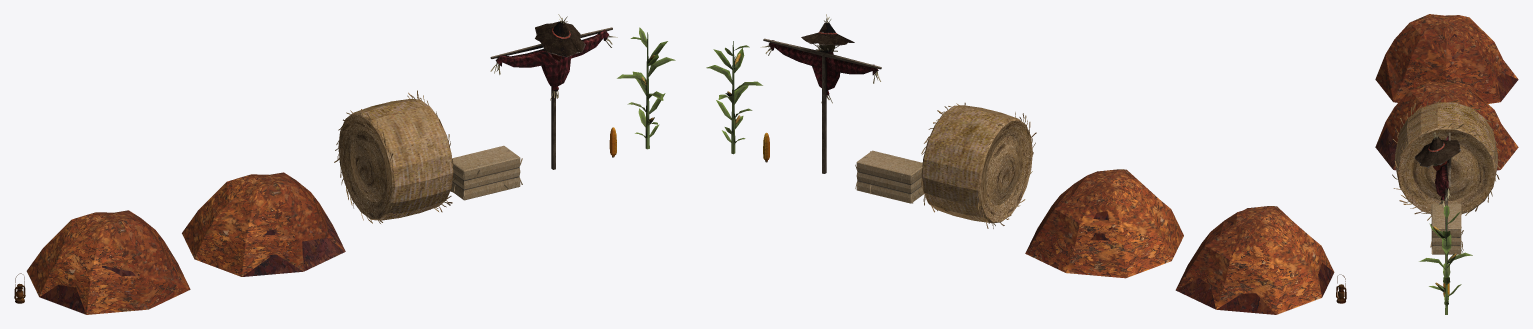
File: FallAssets.fbx
The picture shows the model from 3 angles, left to right: view 1: azimuth 30°, elevation 25°; view 2: azimuth 150°, elevation 25°; view 3: azimuth 270°, elevation 25°; orthographic projection. The views are drawn at different scales.
Parts seen in each view (by area): view 1: LeafPileWithHoles, LeafPile, HayBaleRound, Scarecrow, HayBale, CornStalk; view 2: LeafPile, LeafPileWithHoles, HayBaleRound, Scarecrow, HayBale, CornStalk; view 3: LeafPileWithHoles, HayBaleRound, LeafPile, Scarecrow, HayBale, CornStalk.
Boxes of the visible parts, x1,y1,x2,y2 form: LeafPileWithHoles: [26, 210, 190, 314]; LeafPile: [182, 172, 345, 276]; HayBaleRound: [334, 90, 456, 223]; Scarecrow: [490, 14, 617, 169]; HayBale: [450, 145, 522, 200]; CornStalk: [617, 27, 675, 149]; LeafPile: [1025, 169, 1183, 278]; LeafPileWithHoles: [1175, 206, 1334, 314]; HayBaleRound: [918, 102, 1036, 228]; Scarecrow: [760, 14, 881, 173]; HayBale: [855, 150, 923, 203]; CornStalk: [706, 41, 762, 154]; LeafPileWithHoles: [1375, 14, 1518, 103]; HayBaleRound: [1392, 97, 1500, 220]; LeafPile: [1375, 81, 1518, 170]; Scarecrow: [1415, 131, 1460, 262]; HayBale: [1429, 203, 1463, 254]; CornStalk: [1419, 205, 1472, 314].
Size of the model in its own units: 1395 by 331 by 292.
